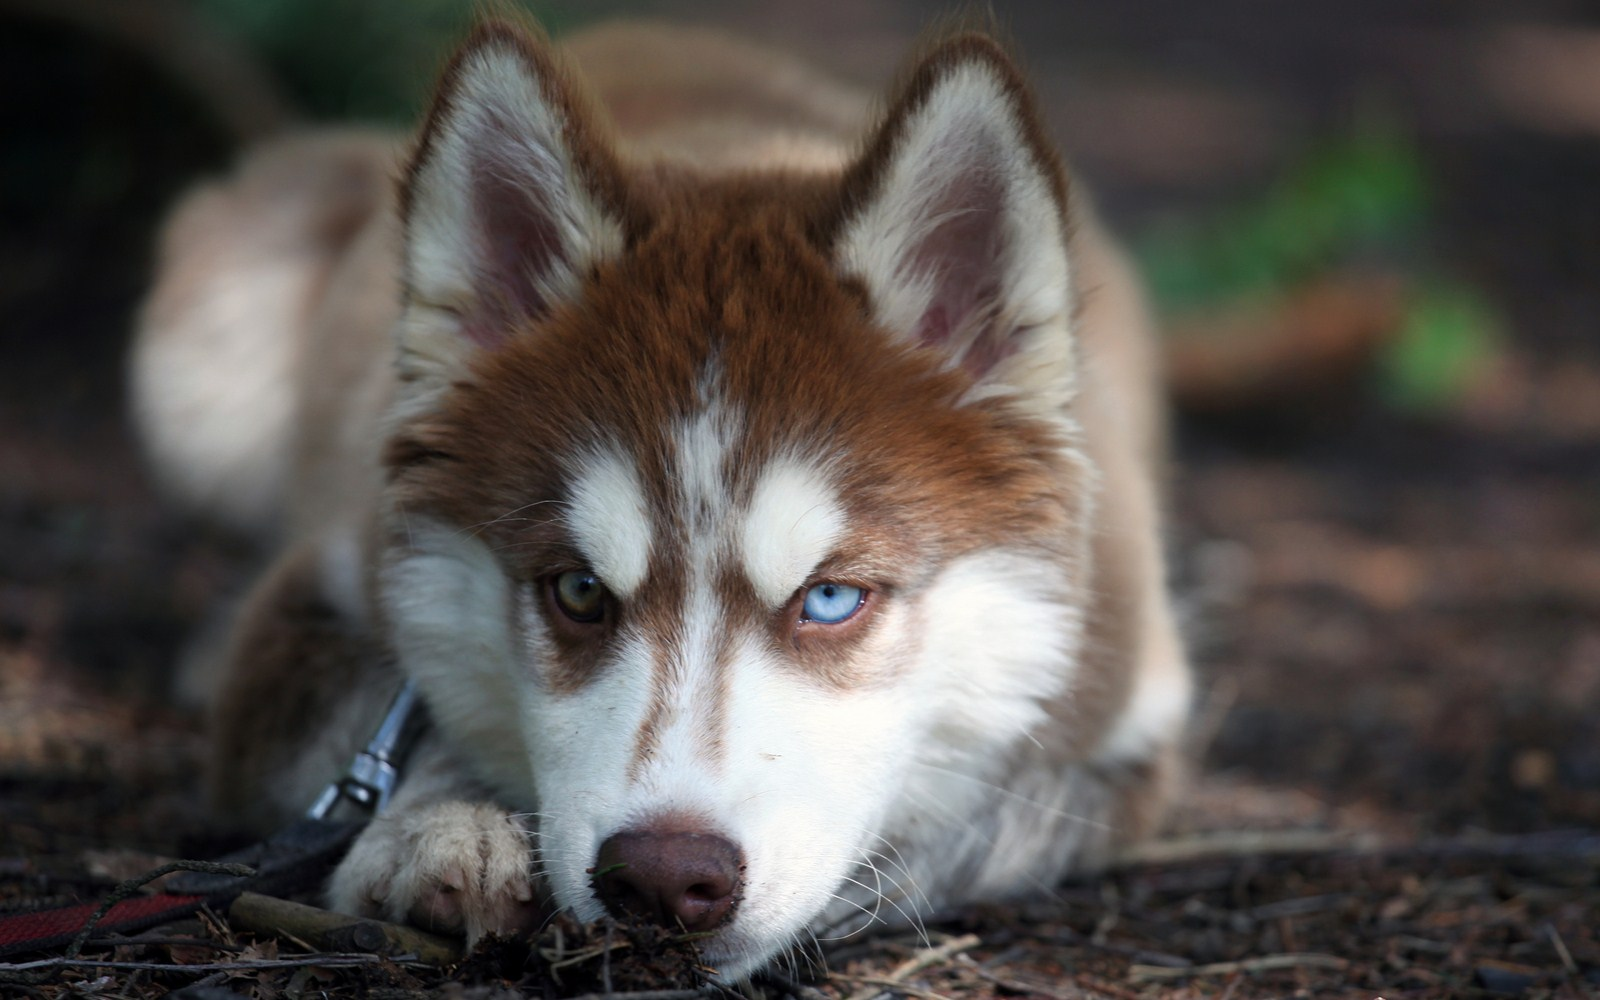dog: (141, 39, 1203, 964)
siberian-husky: (139, 37, 1201, 962)
